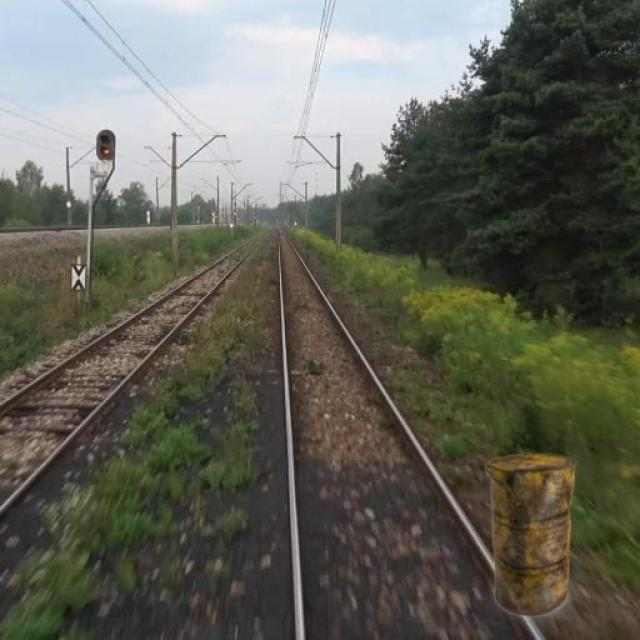Other_objects: (475, 443, 583, 619)
